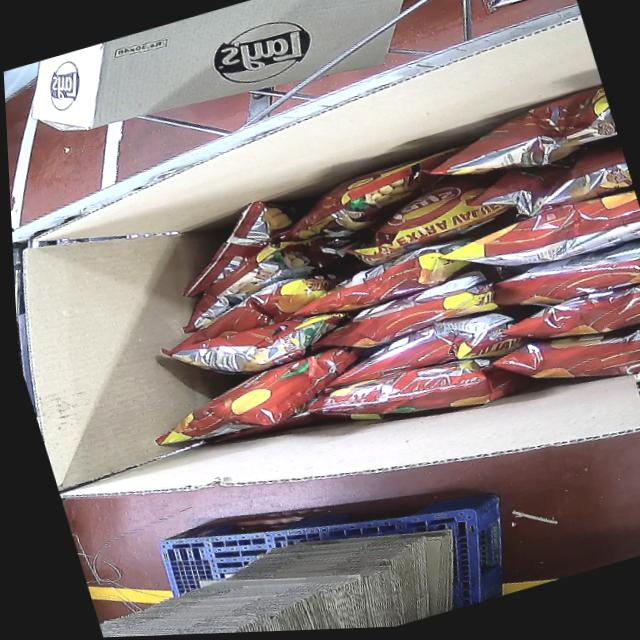MASALA: (85, 81, 640, 509)
